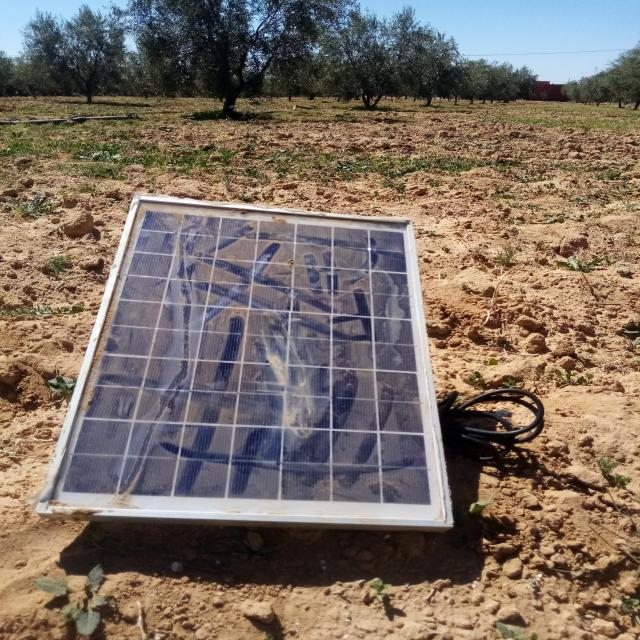faulty: (43, 198, 449, 525)
